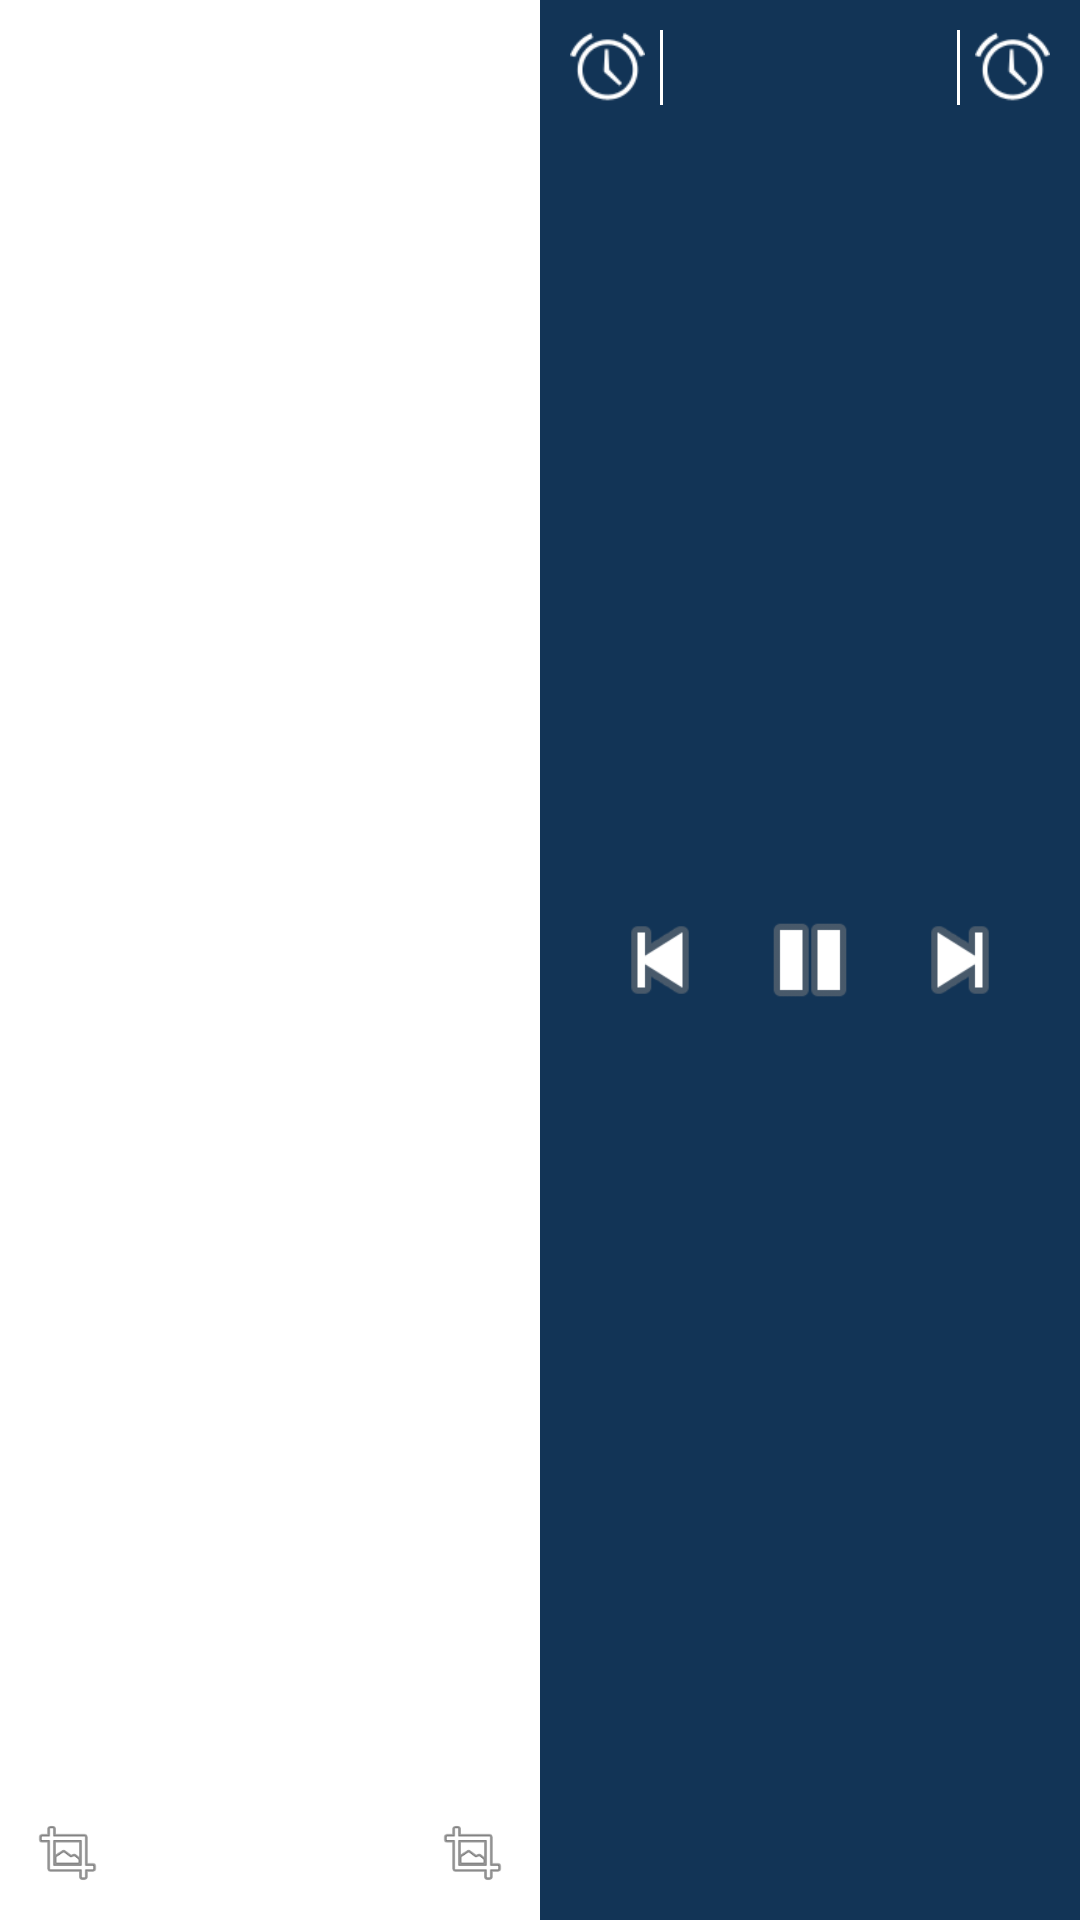

Where icons sit on this 1080x1920 app screen, as bbox=(x1, y1, x2, y2):
crop: bbox=(39, 1826, 96, 1880), bbox=(444, 1826, 501, 1880)
lock idle alarm: bbox=(570, 33, 645, 101), bbox=(975, 33, 1050, 101)
next: bbox=(931, 926, 989, 994)
pause: bbox=(774, 924, 846, 996)
previous: bbox=(631, 926, 689, 994)
